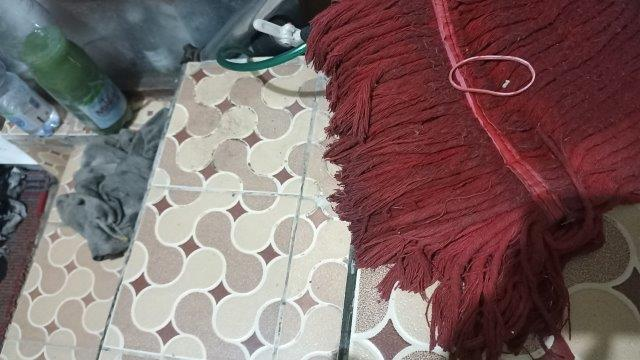karet: (449, 55, 536, 96)
